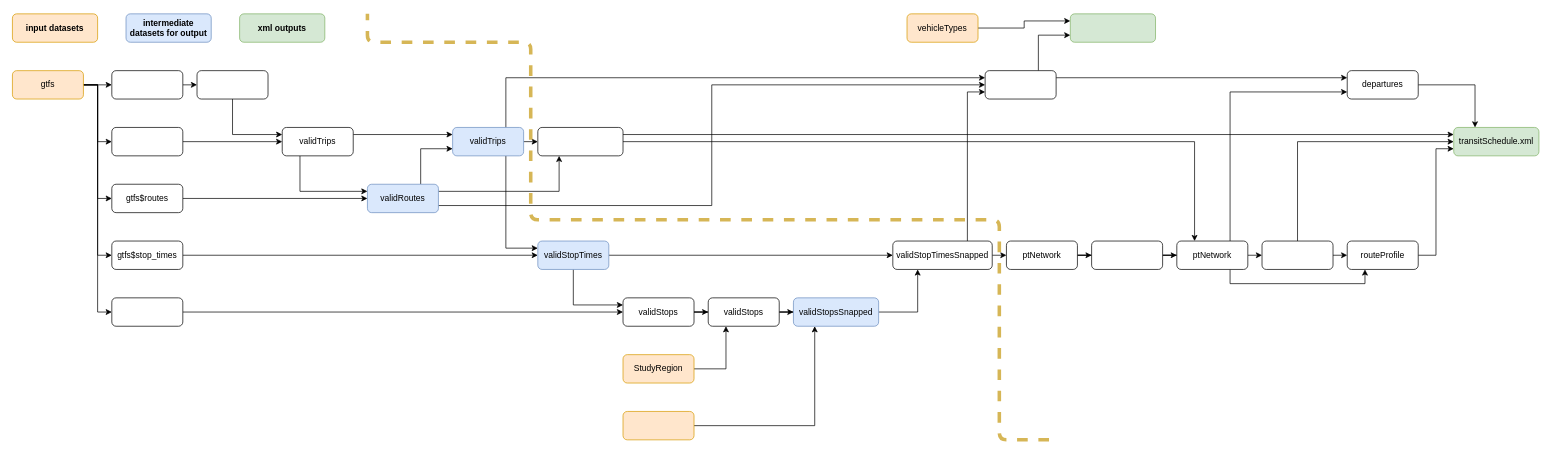
This 1551x454 diagram has some shape labels left out. The shapes that lost their labels are listed below. From the top down, each one's box as (x1, y1, x2, y2) in pixels, then its label:
(1070, 13, 1156, 42): transitVehicles.xml
(111, 70, 183, 99): gtfs$calendar
(196, 70, 268, 99): validCalendar
(984, 70, 1056, 99): vehicles
(111, 127, 183, 156): gtfs$trips
(537, 127, 623, 156): vehicleTripMatching
(1091, 240, 1163, 269): ptStops
(1261, 240, 1333, 269): transitStops
(111, 297, 183, 326): gtfs$stops
(622, 411, 694, 440): networkNodes
